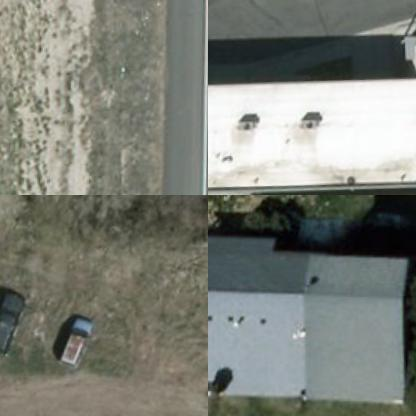car: (56, 314, 91, 374), (0, 289, 26, 354)
